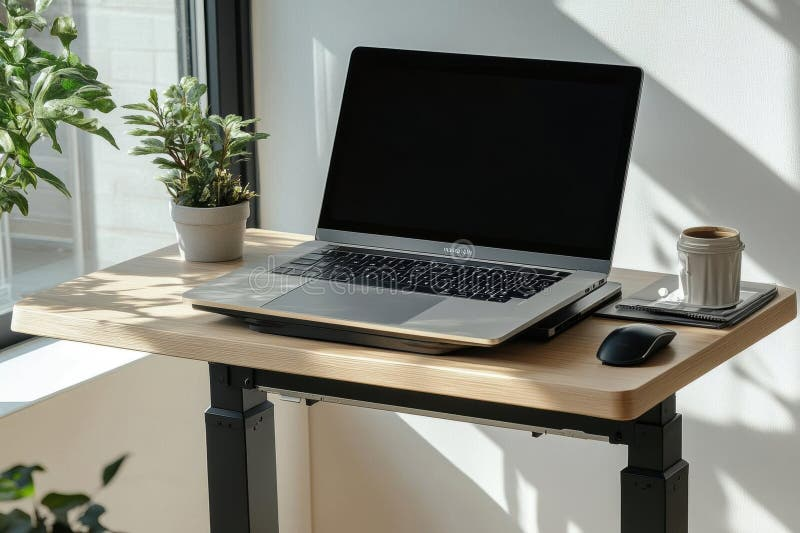not a gesture sign: (12, 245, 799, 440), (51, 0, 216, 161)
